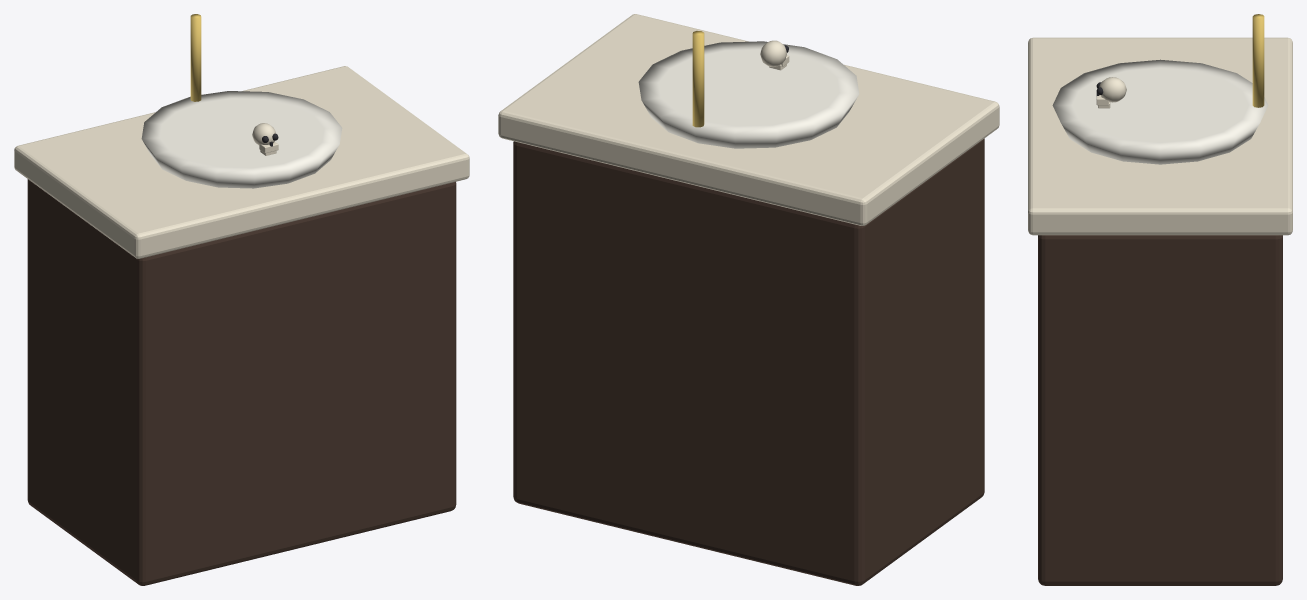
The model's file is bath_fixture_bone_basin.glb.
The picture shows the model from 3 angles, left to right: view 1: azimuth 30°, elevation 25°; view 2: azimuth 150°, elevation 25°; view 3: azimuth 270°, elevation 25°; orthographic projection. The views are drawn at different scales.
Visible parts, largest first — view 1: GD_bath_fixture_bone_basin__m0, GD_bath_fixture_bone_basin__m1, GD_bath_fixture_bone_basin__m2, GD_bath_fixture_bone_basin__m3; view 2: GD_bath_fixture_bone_basin__m0, GD_bath_fixture_bone_basin__m1, GD_bath_fixture_bone_basin__m2, GD_bath_fixture_bone_basin__m3; view 3: GD_bath_fixture_bone_basin__m0, GD_bath_fixture_bone_basin__m1, GD_bath_fixture_bone_basin__m2, GD_bath_fixture_bone_basin__m3.
Boxes of the visible parts, left/top/right/bottom form: GD_bath_fixture_bone_basin__m0: left=27, top=179, right=456, bottom=585; GD_bath_fixture_bone_basin__m1: left=14, top=66, right=469, bottom=258; GD_bath_fixture_bone_basin__m2: left=141, top=91, right=342, bottom=188; GD_bath_fixture_bone_basin__m3: left=190, top=14, right=201, bottom=101; GD_bath_fixture_bone_basin__m0: left=513, top=138, right=984, bottom=585; GD_bath_fixture_bone_basin__m1: left=498, top=14, right=999, bottom=225; GD_bath_fixture_bone_basin__m2: left=638, top=41, right=859, bottom=148; GD_bath_fixture_bone_basin__m3: left=692, top=31, right=704, bottom=127; GD_bath_fixture_bone_basin__m0: left=1038, top=235, right=1282, bottom=585; GD_bath_fixture_bone_basin__m1: left=1028, top=37, right=1292, bottom=235; GD_bath_fixture_bone_basin__m2: left=1052, top=59, right=1268, bottom=164; GD_bath_fixture_bone_basin__m3: left=1252, top=14, right=1264, bottom=107.
Size of the model in its own units: 0.84 by 1.1 by 0.54.
